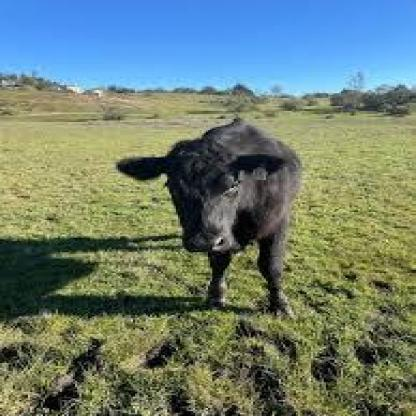cow: (117, 119, 301, 315)
